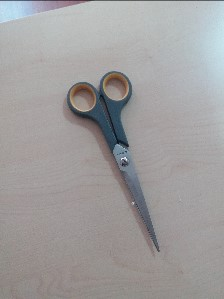scissors: (64, 75, 161, 257)
